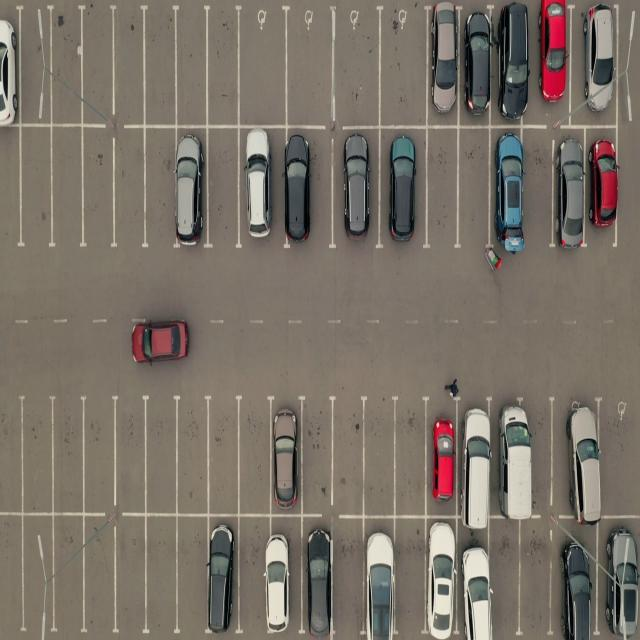space-empty: (238, 8, 289, 126), (287, 10, 337, 127), (377, 7, 425, 128), (334, 8, 381, 126), (45, 516, 87, 633), (46, 5, 86, 126), (48, 128, 86, 251), (142, 6, 180, 127), (15, 127, 52, 251), (601, 403, 640, 518), (113, 5, 150, 126), (16, 398, 54, 515), (175, 7, 212, 127), (205, 7, 242, 127), (77, 5, 114, 125), (112, 131, 149, 251), (458, 128, 494, 251), (78, 132, 115, 251), (78, 393, 115, 511), (79, 515, 116, 633), (17, 515, 54, 633), (141, 130, 177, 251), (49, 398, 86, 515), (115, 395, 152, 511), (206, 128, 242, 247), (143, 397, 180, 512), (177, 397, 214, 512), (359, 400, 395, 518), (142, 517, 178, 633), (238, 396, 274, 512), (235, 397, 271, 513), (297, 398, 333, 512), (520, 522, 556, 636), (205, 396, 240, 512), (396, 519, 430, 638), (331, 397, 366, 512), (394, 397, 428, 515), (177, 516, 211, 634), (332, 520, 366, 638), (424, 126, 457, 246), (114, 517, 148, 633), (302, 398, 337, 510), (15, 8, 48, 124), (488, 519, 520, 636), (525, 126, 555, 248), (0, 394, 24, 515), (0, 515, 24, 635), (0, 128, 22, 251)
space-occupied: (240, 514, 302, 634), (488, 128, 537, 252), (282, 130, 332, 250), (552, 396, 600, 518), (491, 395, 537, 516), (240, 129, 286, 249), (333, 130, 379, 249), (382, 125, 428, 244), (237, 124, 282, 245), (378, 130, 424, 248), (574, 1, 618, 124), (579, 4, 622, 124), (258, 514, 300, 634), (600, 519, 640, 637), (552, 534, 596, 639), (535, 1, 572, 122), (489, 128, 525, 252), (460, 398, 497, 518), (494, 5, 531, 123), (425, 6, 461, 126), (423, 397, 459, 516), (459, 519, 493, 639), (424, 519, 458, 637), (177, 130, 210, 251), (362, 517, 395, 638), (269, 397, 304, 511), (554, 130, 587, 247), (463, 8, 496, 124), (303, 522, 335, 636), (207, 516, 238, 632), (299, 522, 330, 637), (589, 132, 620, 246), (585, 128, 615, 242), (0, 6, 22, 125)
